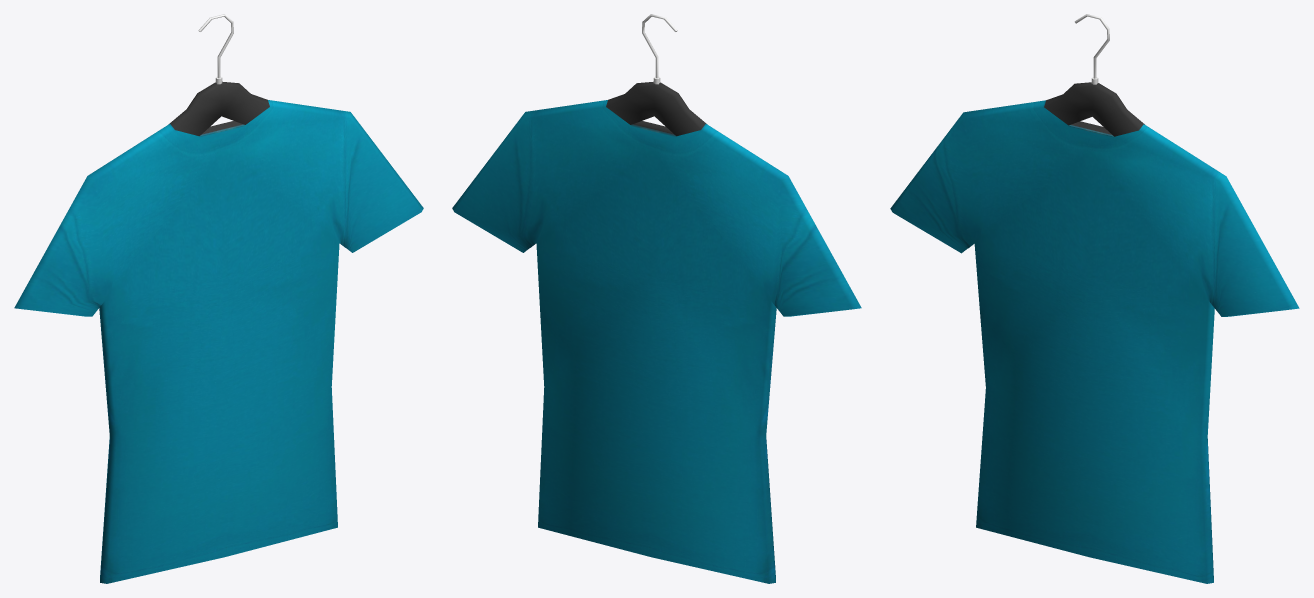
Rendered from Product_TShirt01.FBX.
3 views of the same model, side by side, from view 1: azimuth 30°, elevation 25°; view 2: azimuth 150°, elevation 25°; view 3: azimuth 330°, elevation 25° (orthographic).
Visible parts, largest first — view 1: Product_TShirt01_LOD_00; view 2: Product_TShirt01_LOD_00; view 3: Product_TShirt01_LOD_00.
Part boxes in pixels (<box>): Product_TShirt01_LOD_00: <box>14,14,423,583</box>; Product_TShirt01_LOD_00: <box>452,14,861,583</box>; Product_TShirt01_LOD_00: <box>890,14,1299,583</box>.
Size of the model in its own units: 0.6575 by 0.8249 by 0.0309.
